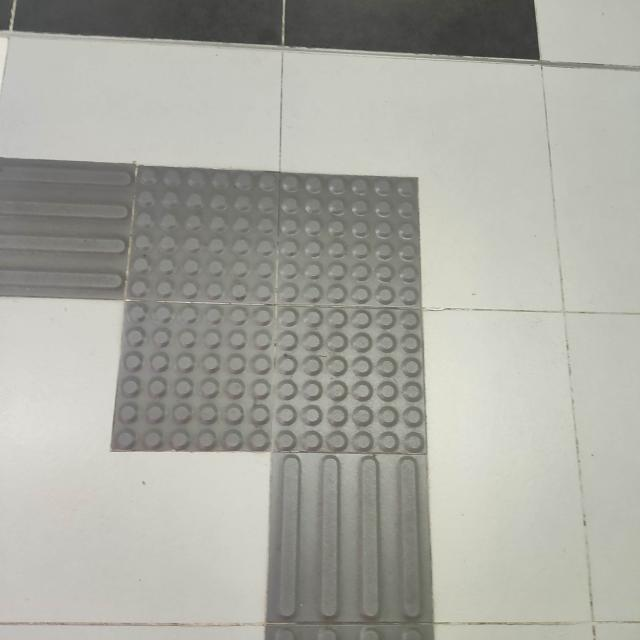kiri: (0, 109, 530, 536)
